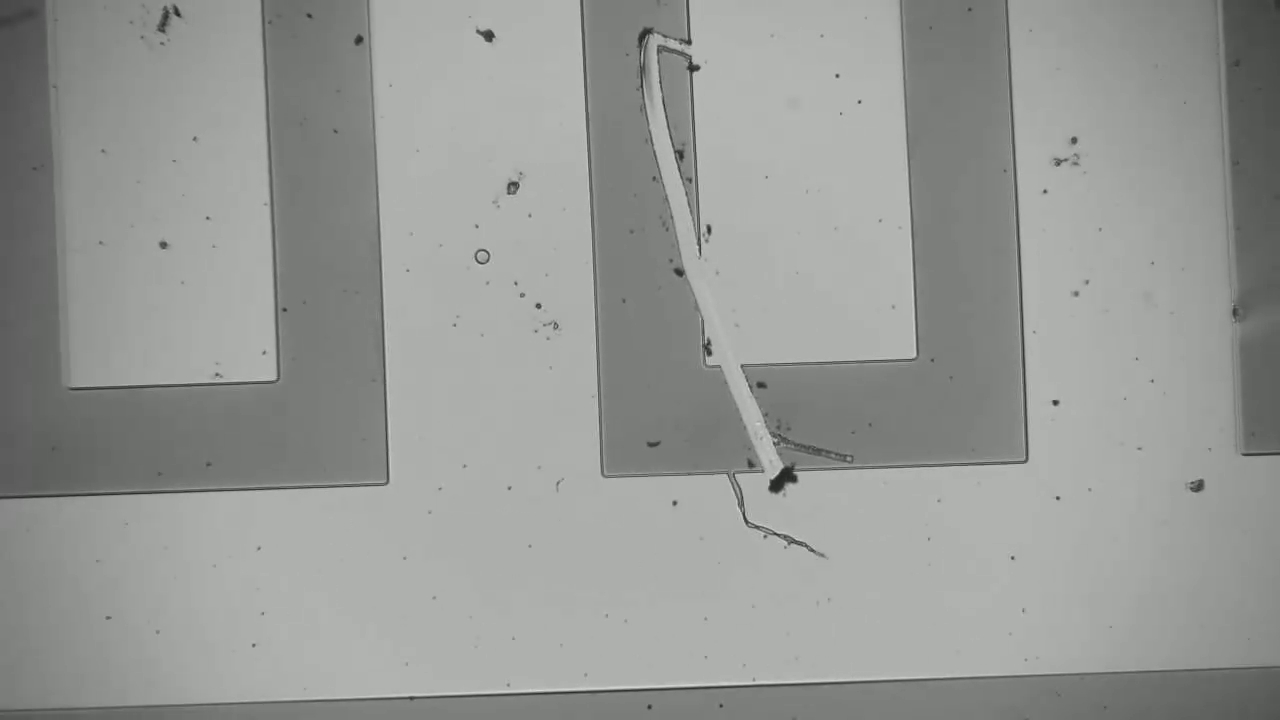Short_circuit: (702, 339, 814, 512)
